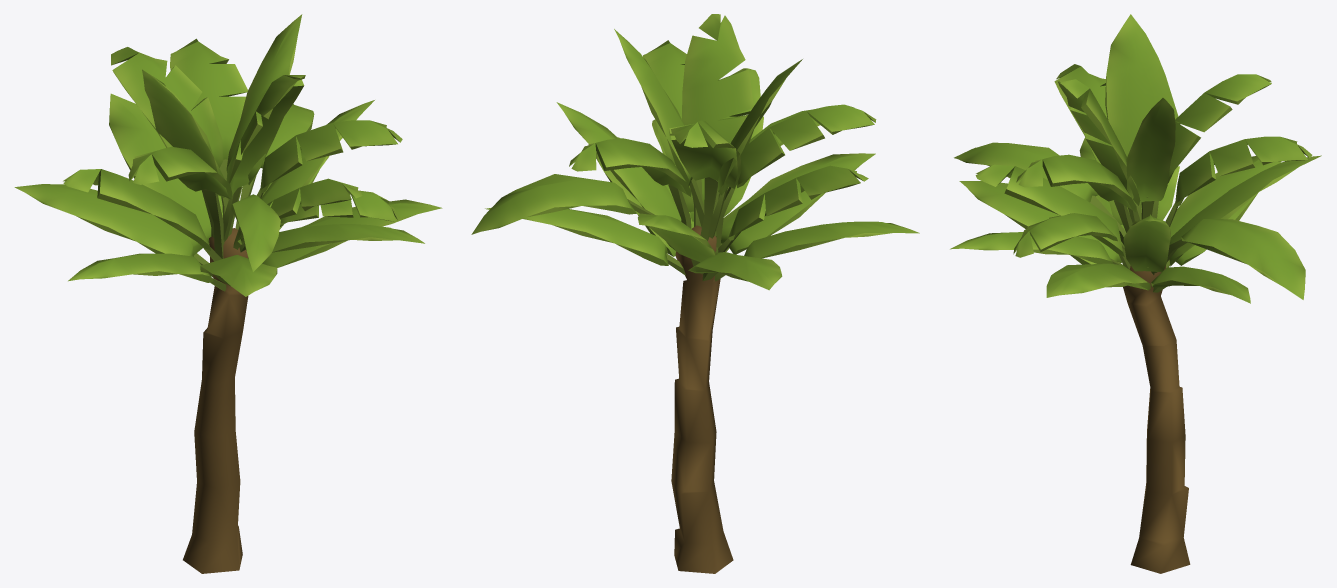
3 renders of one model, left to right at view 1: azimuth 30°, elevation 25°; view 2: azimuth 150°, elevation 25°; view 3: azimuth 270°, elevation 25°, orthographic. The views are drawn at different scales.
Visible parts, largest first — view 1: shu; view 2: shu; view 3: shu.
Part boxes in pixels (x1,y1,x2,y2): shu: [14, 14, 442, 573]; shu: [471, 14, 919, 573]; shu: [950, 14, 1321, 573].
Bounding box in the file's own units: 343 × 477 × 319.
